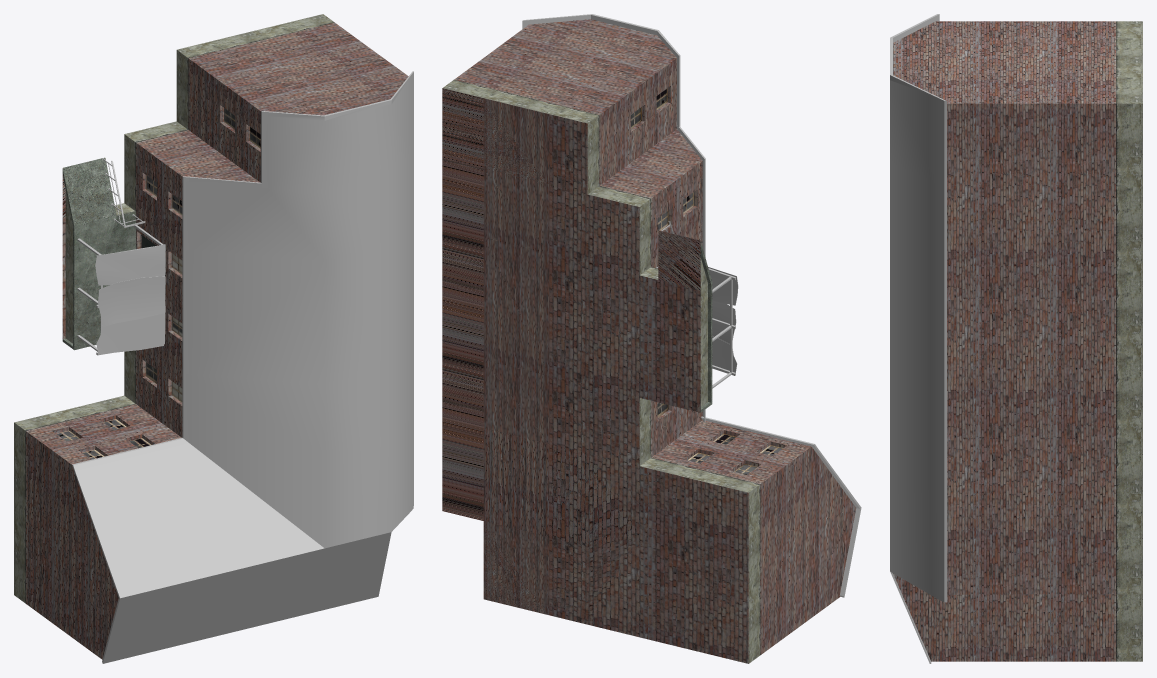
File: house2_LOD1.fbx
3 renders of one model, left to right at view 1: azimuth 30°, elevation 25°; view 2: azimuth 150°, elevation 25°; view 3: azimuth 270°, elevation 25°, orthographic. The views are drawn at different scales.
Visible parts, largest first — view 1: MDL-Box012; view 2: MDL-Box012; view 3: MDL-Box012.
Boxes of the visible parts, x1,y1,x2,y2 form: MDL-Box012: (14, 14, 413, 663); MDL-Box012: (442, 14, 861, 663); MDL-Box012: (890, 14, 1142, 663).
Size of the model in its own units: 28.7 by 44.06 by 17.21.
